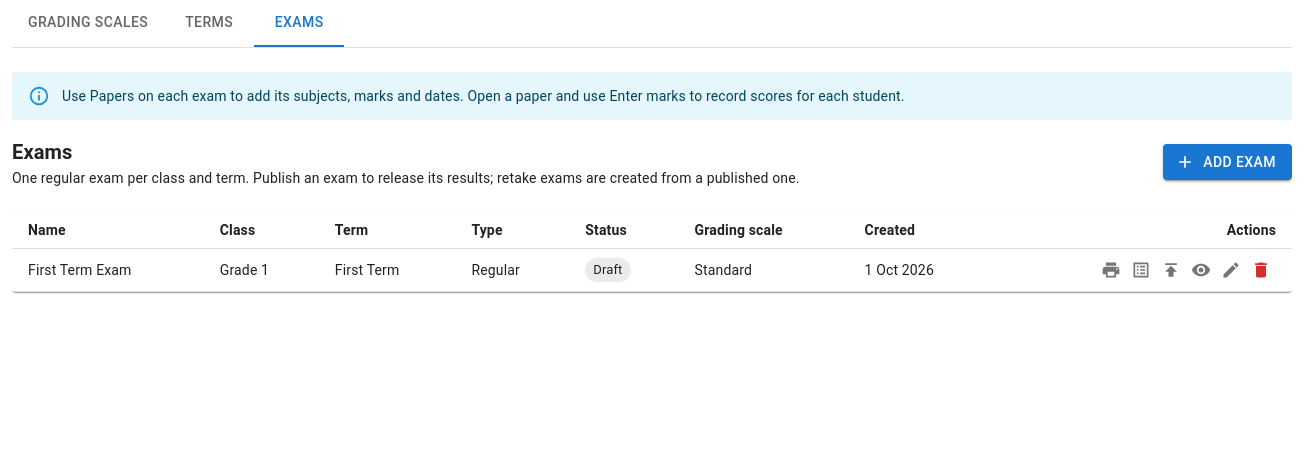
Test: ExaminationsManager exams › offers results, datesheet, admit cards and report cards from the documents menu
The width and height of the screenshot is (1304, 475).
Click the button named "Documents" at (1111, 270), box [1096,255,1126,285]
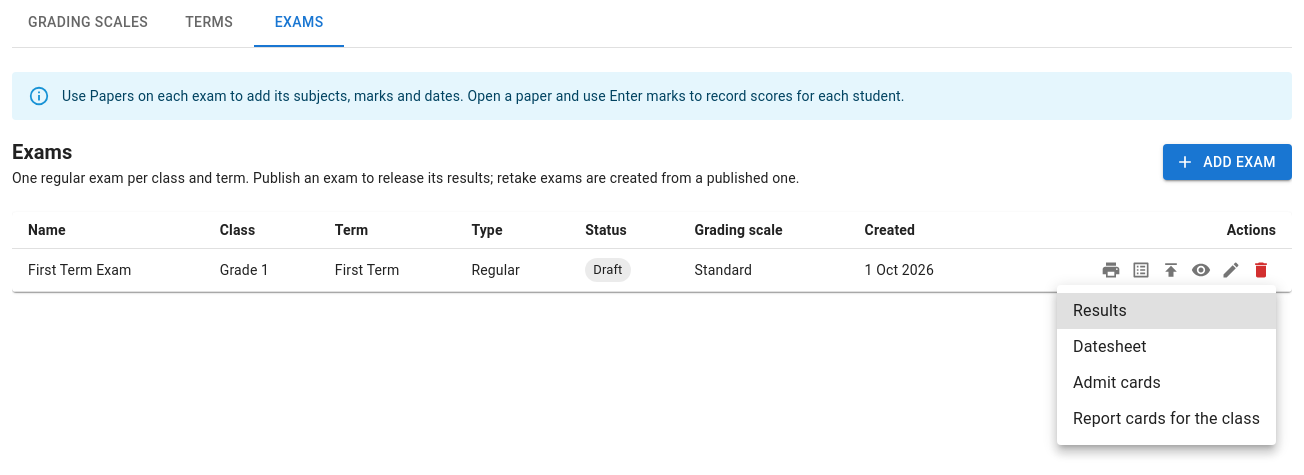
Now the menu item "Results" is shown, box [1057,293,1276,329]
Now the menu item "Datesheet" is shown, box [1073,337,1146,356]
Now the menu item "Admit cards" is shown, box [1073,373,1161,392]
